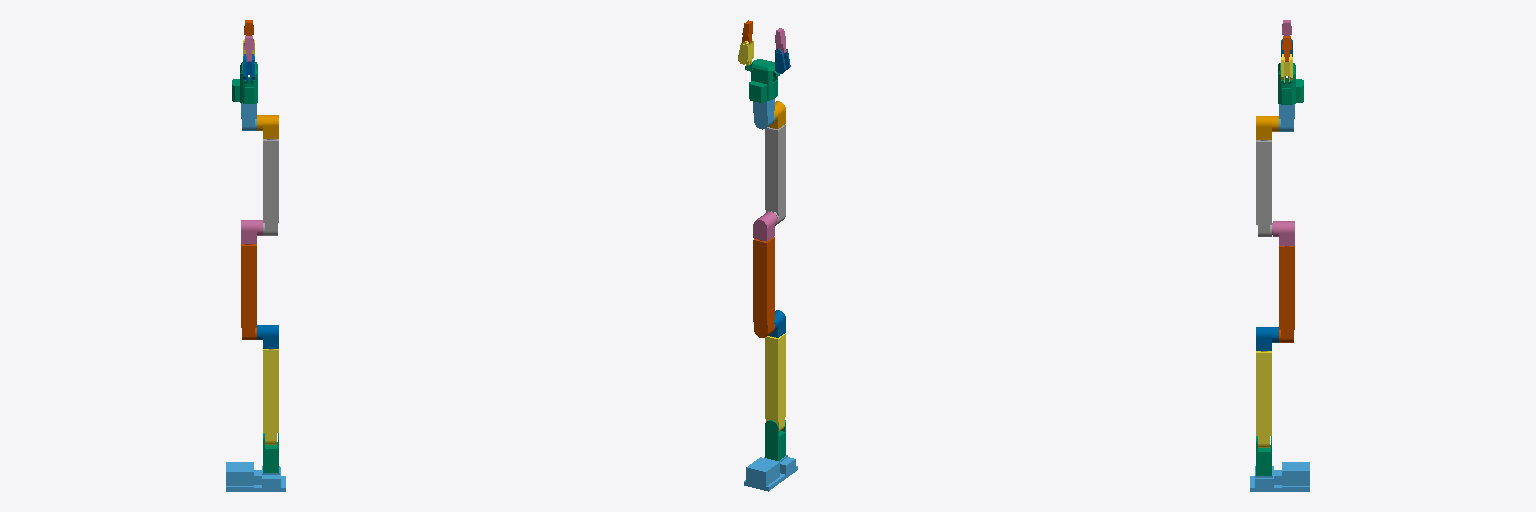
robot.urdf — defaultMantis:
<?xml version="1.0" ?>
<!-- =================================================================================== -->
<!-- |    This document was autogenerated by xacro from arm_gazebo_default.urdf.xacro  | -->
<!-- |    EDITING THIS FILE BY HAND IS NOT RECOMMENDED                                 | -->
<!-- =================================================================================== -->
<robot name="defaultMantis" xmlns:xacro="http://www.ros.org/wiki/xacro">
  <link name="world"/>
  <!-- ################################# -->
  <!--        Xacro Initialization       -->
  <!-- ################################# -->
  <!-- ========PROPERTIES======= -->
  <!-- xacro:property name="pi" value="3.1415926535" / -->
  <!-- measured to edge +2mm gap -->
  <!-- In Modified DH Parameters, the d values are expressed as distances along the Z axis of the ith joint
                 But the joint offset vectors defined below are defined from the (i-1) axes. So the d values
            are not applied with consistent signage or along the same axes.
    -->
  <!-- ################################# -->
  <!-- ========MACROS======= -->
  <!-- ################################# -->
  <!--              Links                -->
  <!-- ################################# -->
  <!-- ======== Fixed Base ======== -->
  <!-- These inertial values are rough estimates -->
  <link name="base_link">
    <visual>
      <origin rpy="0 0 0" xyz="0 0 0"/>
      <geometry>
        <mesh filename="package://mantis/meshes/base.dae"/>
      </geometry>
    </visual>
    <inertial>
      <mass value="0.400"/>
      <inertia ixx="0.08000" ixy="0.001" ixz="0.001" iyy="0.05000" iyz="0.002" izz="0.06000"/>
    </inertial>
  </link>
  <link name="B1">
    <visual>
      <origin rpy="0 0 0" xyz="0 0 0"/>
      <geometry>
        <mesh filename="package://mantis/meshes/B1.dae"/>
      </geometry>
    </visual>
    <inertial>
      <mass value="0.175"/>
      <inertia ixx="0.000586" ixy="0" ixz="0" iyy="0.000579" iyz="0" izz="0.000068"/>
    </inertial>
  </link>
  <link name="B2">
    <visual>
      <origin rpy="0 0 0" xyz="0 0 0"/>
      <geometry>
        <mesh filename="package://mantis/meshes/B2.dae"/>
      </geometry>
    </visual>
    <inertial>
      <mass value="0.383"/>
      <inertia ixx="0.008240" ixy="0" ixz="0" iyy="0.000117" iyz="0" izz="0.008234"/>
    </inertial>
  </link>
  <link name="B3">
    <visual>
      <origin rpy="0 0 0" xyz="0 0 0"/>
      <geometry>
        <mesh filename="package://mantis/meshes/B3.dae"/>
      </geometry>
    </visual>
    <inertial>
      <mass value="0.320"/>
      <inertia ixx="0.000272" ixy="0" ixz="0" iyy="0.000101" iyz="0" izz="0.000303"/>
    </inertial>
  </link>
  <link name="B4">
    <visual>
      <origin rpy="0 0 0" xyz="0 0 0"/>
      <geometry>
        <mesh filename="package://mantis/meshes/B4.dae"/>
      </geometry>
    </visual>
    <inertial>
      <mass value="0.383"/>
      <inertia ixx="0.008240" ixy="0" ixz="0" iyy="0.000117" iyz="0" izz="0.008234"/>
    </inertial>
  </link>
  <link name="B5">
    <visual>
      <origin rpy="0 0 0" xyz="0 0 0"/>
      <geometry>
        <mesh filename="package://mantis/meshes/B5.dae"/>
      </geometry>
    </visual>
    <inertial>
      <mass value="0.320"/>
      <inertia ixx="0.000272" ixy="0" ixz="0" iyy="0.000101" iyz="0" izz="0.000303"/>
    </inertial>
  </link>
  <link name="B6">
    <visual>
      <origin rpy="0 0 0" xyz="0 0 0"/>
      <geometry>
        <mesh filename="package://mantis/meshes/B6.dae"/>
      </geometry>
    </visual>
    <inertial>
      <mass value="0.383"/>
      <inertia ixx="0.008240" ixy="0" ixz="0" iyy="0.000117" iyz="0" izz="0.008234"/>
    </inertial>
  </link>
  <link name="B7">
    <visual>
      <origin rpy="0 0 0" xyz="0 0 0"/>
      <geometry>
        <mesh filename="package://mantis/meshes/B7.dae"/>
      </geometry>
    </visual>
    <inertial>
      <mass value="0.320"/>
      <inertia ixx="0.000272" ixy="0" ixz="0" iyy="0.000101" iyz="0" izz="0.000303"/>
    </inertial>
  </link>
  <link name="B8">
    <visual>
      <origin rpy="0 0 0" xyz="0 0 0"/>
      <geometry>
        <mesh filename="package://mantis/meshes/B8.dae"/>
      </geometry>
    </visual>
    <inertial>
      <mass value="0.150"/>
      <inertia ixx="0.000586" ixy="0" ixz="0" iyy="0.000068" iyz="0" izz="0.000579"/>
    </inertial>
  </link>
  <link name="Palm">
    <visual>
      <origin rpy="0 0 0" xyz="0 0 0"/>
      <geometry>
        <mesh filename="package://mantis/meshes/gripper/palm.dae"/>
      </geometry>
    </visual>
    <collision>
      <origin rpy="0 0 0" xyz="0 0 0"/>
      <geometry>
        <mesh filename="package://mantis/meshes/gripper/palm.dae"/>
      </geometry>
    </collision>
    <inertial>
      <mass value="0.400"/>
      <inertia ixx="0.5000" ixy="0.000" ixz="0.00" iyy="0.5000" iyz="0.00" izz="0.6000"/>
    </inertial>
  </link>
  <link name="Proximal_L">
    <visual>
      <origin rpy="0 0 0" xyz="0 0 0"/>
      <geometry>
        <mesh filename="package://mantis/meshes/gripper/proximal_L.dae"/>
      </geometry>
    </visual>
    <collision>
      <origin rpy="0 0 0" xyz="0 0 0"/>
      <geometry>
        <mesh filename="package://mantis/meshes/gripper/proximal_L.dae"/>
      </geometry>
    </collision>
    <inertial>
      <mass value="0.010"/>
      <inertia ixx="0.0006" ixy="0.0" ixz="0.0" iyy="0.0002" iyz="0.0" izz="0.0006"/>
    </inertial>
  </link>
  <link name="Proximal_R">
    <visual>
      <origin rpy="0 0 0" xyz="0 0 0"/>
      <geometry>
        <mesh filename="package://mantis/meshes/gripper/proximal_R.dae"/>
      </geometry>
    </visual>
    <collision>
      <origin rpy="0 0 0" xyz="0 0 0"/>
      <geometry>
        <mesh filename="package://mantis/meshes/gripper/proximal_R.dae"/>
      </geometry>
    </collision>
    <inertial>
      <mass value="0.010"/>
      <inertia ixx="0.0006" ixy="0.0" ixz="0.0" iyy="0.0002" iyz="0.0" izz="0.0006"/>
    </inertial>
  </link>
  <link name="Distal_L">
    <visual>
      <origin rpy="0 0 0" xyz="0 0 0"/>
      <geometry>
        <mesh filename="package://mantis/meshes/gripper/distal_L.dae"/>
      </geometry>
    </visual>
    <collision>
      <origin rpy="0 0 0" xyz="0 0 0"/>
      <geometry>
        <mesh filename="package://mantis/meshes/gripper/distal_L.dae"/>
      </geometry>
    </collision>
    <inertial>
      <mass value="0.010"/>
      <inertia ixx="0.0006" ixy="0.0" ixz="0.0" iyy="0.0002" iyz="0.0" izz="0.0006"/>
    </inertial>
  </link>
  <link name="Distal_R">
    <visual>
      <origin rpy="0 0 0" xyz="0 0 0"/>
      <geometry>
        <mesh filename="package://mantis/meshes/gripper/distal_R.dae"/>
      </geometry>
    </visual>
    <collision>
      <origin rpy="0 0 0" xyz="0 0 0"/>
      <geometry>
        <mesh filename="package://mantis/meshes/gripper/distal_R.dae"/>
      </geometry>
    </collision>
    <inertial>
      <mass value="0.010"/>
      <inertia ixx="0.0006" ixy="0.0" ixz="0.0" iyy="0.0002" iyz="0.0" izz="0.0006"/>
    </inertial>
  </link>
  <!-- ################################# -->
  <!-- ################################# -->
  <!--             Joints                -->
  <!-- ################################# -->
  <!-- ======== Joint 0 (fixed) ========
        This joint places the arm within the global environment
        using this file's arguments env_base and origin
    -->
  <joint name="anchor" type="fixed">
    <origin rpy="0 0 0" xyz="0 0 0.01"/>
    <parent link="world"/>
    <child link="base_link"/>
  </joint>
  <joint name="J1_roll" type="continuous">
    <parent link="base_link"/>
    <child link="B1"/>
    <origin rpy="0 0 0" xyz="0 0 0.129"/>
    <axis xyz="0 0 1">
      <dynamics damping="0.25" friction="0.25"/>
    </axis>
    <limit effort="30.0" velocity="10"/>
  </joint>
  <joint name="J2_pitch" type="continuous">
    <parent link="B1"/>
    <child link="B2"/>
    <origin rpy="-1.57079632679 0 0" xyz="0 0 0"/>
    <axis xyz="0 0 1">
      <dynamics damping="0.25" friction="0.25"/>
    </axis>
    <limit effort="30.0" velocity="10"/>
  </joint>
  <joint name="J3_roll" type="continuous">
    <parent link="B2"/>
    <child link="B3"/>
    <origin rpy="1.57079632679 0 0" xyz="0 -0.29 0"/>
    <axis xyz="0 0 1">
      <dynamics damping="0.25" friction="0.25"/>
    </axis>
    <limit effort="30.0" velocity="10"/>
  </joint>
  <joint name="J4_pitch" type="continuous">
    <parent link="B3"/>
    <child link="B4"/>
    <origin rpy="-1.57079632679 0 0" xyz="0 0.056 0"/>
    <axis xyz="0 0 1">
      <dynamics damping="0.25" friction="0.25"/>
    </axis>
    <limit effort="30.0" velocity="10"/>
  </joint>
  <joint name="J5_roll" type="continuous">
    <parent link="B4"/>
    <child link="B5"/>
    <origin rpy="1.57079632679 0 0" xyz="0 -0.29 0"/>
    <axis xyz="0 0 1">
      <dynamics damping="0.25" friction="0.25"/>
    </axis>
    <limit effort="30.0" velocity="10"/>
  </joint>
  <joint name="J6_pitch" type="continuous">
    <parent link="B5"/>
    <child link="B6"/>
    <origin rpy="-1.57079632679 0 0" xyz="0 -0.056 0"/>
    <axis xyz="0 0 1">
      <dynamics damping="0.25" friction="0.25"/>
    </axis>
    <limit effort="30.0" velocity="10"/>
  </joint>
  <joint name="J7_roll" type="continuous">
    <parent link="B6"/>
    <child link="B7"/>
    <origin rpy="1.57079632679 0 0" xyz="0 -0.29 0"/>
    <axis xyz="0 0 1">
      <dynamics damping="0.25" friction="0.25"/>
    </axis>
    <limit effort="30.0" velocity="10"/>
  </joint>
  <joint name="J8_pitch" type="continuous">
    <parent link="B7"/>
    <child link="B8"/>
    <origin rpy="-1.57079632679 0 0" xyz="0 0.056 0"/>
    <axis xyz="0 0 1">
      <dynamics damping="0.25" friction="0.25"/>
    </axis>
    <limit effort="30.0" velocity="10"/>
  </joint>
  <joint name="J9_wrist" type="continuous">
    <parent link="B8"/>
    <child link="Palm"/>
    <origin rpy="1.57079632679 0 0" xyz="0 -0.067 0"/>
    <axis xyz="0 0 1">
      <dynamics damping="0.25" friction="0.25"/>
    </axis>
    <limit effort="30.0" velocity="10"/>
  </joint>
  <joint name="J1_L_wrist" type="continuous">
    <parent link="Palm"/>
    <child link="Proximal_L"/>
    <origin rpy="-1.57079632679 0 0" xyz=" 0.04334 0 0.071569"/>
    <axis xyz="0 0 1">
      <dynamics damping="0.25" friction="0.25"/>
    </axis>
    <limit effort="30.0" velocity="10"/>
  </joint>
  <joint name="J1_R_wrist" type="continuous">
    <parent link="Palm"/>
    <child link="Proximal_R"/>
    <origin rpy="-1.57079632679 0 0" xyz="-0.04334 0 0.071569"/>
    <axis xyz="0 0 1">
      <dynamics damping="0.25" friction="0.25"/>
    </axis>
    <limit effort="30.0" velocity="10"/>
  </joint>
  <joint name="J2_L_wrist" type="continuous">
    <parent link="Proximal_L"/>
    <child link="Distal_L"/>
    <origin rpy="0 0 0" xyz=" 0 -0.06789 0 "/>
    <axis xyz="0 0 1">
      <dynamics damping="0.25" friction="0.25"/>
    </axis>
    <limit effort="30.0" velocity="10"/>
  </joint>
  <joint name="J2_R_wrist" type="continuous">
    <parent link="Proximal_R"/>
    <child link="Distal_R"/>
    <origin rpy="0 0 0" xyz=" 0 -0.06789 0 "/>
    <axis xyz="0 0 1">
      <dynamics damping="0.25" friction="0.25"/>
    </axis>
    <limit effort="30.0" velocity="10"/>
  </joint>
  <!-- ################################# -->
  <!--             PLUGINS               -->
  <!-- ################################# -->
  <gazebo>
    <plugin filename="libgazebo_ros_control.so" name="gazebo_ros_control">
      <robotNamespace>/mantis</robotNamespace>
    </plugin>
  </gazebo>
  <!-- ################################# -->
  <transmission name="J1_roll_transmission">
    <type>transmission_interface/SimpleTransmission</type>
    <joint name="J1_roll">
      <hardwareInterface>EffortJointInterface</hardwareInterface>
    </joint>
    <actuator name="J1_roll_motor">
      <hardwareInterface>EffortJointInterface</hardwareInterface>
    </actuator>
  </transmission>
  <transmission name="J2_pitch_transmission">
    <type>transmission_interface/SimpleTransmission</type>
    <joint name="J2_pitch">
      <hardwareInterface>EffortJointInterface</hardwareInterface>
    </joint>
    <actuator name="J2_pitch_motor">
      <hardwareInterface>EffortJointInterface</hardwareInterface>
    </actuator>
  </transmission>
  <transmission name="J3_roll_transmission">
    <type>transmission_interface/SimpleTransmission</type>
    <joint name="J3_roll">
      <hardwareInterface>EffortJointInterface</hardwareInterface>
    </joint>
    <actuator name="J3_roll_motor">
      <hardwareInterface>EffortJointInterface</hardwareInterface>
    </actuator>
  </transmission>
  <transmission name="J4_pitch_transmission">
    <type>transmission_interface/SimpleTransmission</type>
    <joint name="J4_pitch">
      <hardwareInterface>EffortJointInterface</hardwareInterface>
    </joint>
    <actuator name="J4_pitch_motor">
      <hardwareInterface>EffortJointInterface</hardwareInterface>
    </actuator>
  </transmission>
  <transmission name="J5_roll_transmission">
    <type>transmission_interface/SimpleTransmission</type>
    <joint name="J5_roll">
      <hardwareInterface>EffortJointInterface</hardwareInterface>
    </joint>
    <actuator name="J5_roll_motor">
      <hardwareInterface>EffortJointInterface</hardwareInterface>
    </actuator>
  </transmission>
  <transmission name="J6_pitch_transmission">
    <type>transmission_interface/SimpleTransmission</type>
    <joint name="J6_pitch">
      <hardwareInterface>EffortJointInterface</hardwareInterface>
    </joint>
    <actuator name="J6_pitch_motor">
      <hardwareInterface>EffortJointInterface</hardwareInterface>
    </actuator>
  </transmission>
  <transmission name="J7_roll_transmission">
    <type>transmission_interface/SimpleTransmission</type>
    <joint name="J7_roll">
      <hardwareInterface>EffortJointInterface</hardwareInterface>
    </joint>
    <actuator name="J7_roll_motor">
      <hardwareInterface>EffortJointInterface</hardwareInterface>
    </actuator>
  </transmission>
  <transmission name="J8_pitch_transmission">
    <type>transmission_interface/SimpleTransmission</type>
    <joint name="J8_pitch">
      <hardwareInterface>EffortJointInterface</hardwareInterface>
    </joint>
    <actuator name="J8_pitch_motor">
      <hardwareInterface>EffortJointInterface</hardwareInterface>
    </actuator>
  </transmission>
  <transmission name="J9_wrist_transmission">
    <type>transmission_interface/SimpleTransmission</type>
    <joint name="J9_wrist">
      <hardwareInterface>EffortJointInterface</hardwareInterface>
    </joint>
    <actuator name="J9_wrist_motor">
      <hardwareInterface>EffortJointInterface</hardwareInterface>
    </actuator>
  </transmission>
  <transmission name="J1_L_wrist_transmission">
    <type>transmission_interface/SimpleTransmission</type>
    <joint name="J1_L_wrist">
      <hardwareInterface>EffortJointInterface</hardwareInterface>
    </joint>
    <actuator name="J1_L_wrist_motor">
      <hardwareInterface>EffortJointInterface</hardwareInterface>
    </actuator>
  </transmission>
  <transmission name="J1_R_wrist_transmission">
    <type>transmission_interface/SimpleTransmission</type>
    <joint name="J1_R_wrist">
      <hardwareInterface>EffortJointInterface</hardwareInterface>
    </joint>
    <actuator name="J1_R_wrist_motor">
      <hardwareInterface>EffortJointInterface</hardwareInterface>
    </actuator>
  </transmission>
  <!-- Friction
        Detailed description needed-->
  <!-- ################################# -->
  <!--           Materials               -->
  <!-- ################################# -->
  <gazebo reference="base_link">
    <material>
            Gazebo/Black
        </material>
    <implicitSpringDamper>1</implicitSpringDamper>
    <mu1>100000</mu1>
    <mu2>100000</mu2>
    <kp>100.0</kp>
    <kd>0.01</kd>
  </gazebo>
  <gazebo reference="B1">
    <material>
            Gazebo/DarkGrey
        </material>
    <implicitSpringDamper>1</implicitSpringDamper>
    <mu1>100000</mu1>
    <mu2>100000</mu2>
    <kp>100.0</kp>
    <kd>0.01</kd>
  </gazebo>
  <gazebo reference="B2">
    <material>
            Gazebo/Grey
        </material>
    <implicitSpringDamper>1</implicitSpringDamper>
    <mu1>100000</mu1>
    <mu2>100000</mu2>
    <kp>100.0</kp>
    <kd>0.01</kd>
  </gazebo>
  <gazebo reference="B3">
    <material>
            Gazebo/DarkGrey
        </material>
    <implicitSpringDamper>1</implicitSpringDamper>
    <mu1>100000</mu1>
    <mu2>100000</mu2>
    <kp>100.0</kp>
    <kd>0.01</kd>
  </gazebo>
  <gazebo reference="B4">
    <material>
            Gazebo/Grey
        </material>
    <implicitSpringDamper>1</implicitSpringDamper>
    <mu1>100000</mu1>
    <mu2>100000</mu2>
    <kp>100.0</kp>
    <kd>0.01</kd>
  </gazebo>
  <gazebo reference="B5">
    <material>
            Gazebo/DarkGrey
        </material>
    <implicitSpringDamper>1</implicitSpringDamper>
    <mu1>100000</mu1>
    <mu2>100000</mu2>
    <kp>100.0</kp>
    <kd>0.01</kd>
  </gazebo>
  <gazebo reference="B6">
    <material>
            Gazebo/Grey
        </material>
    <implicitSpringDamper>1</implicitSpringDamper>
    <mu1>100000</mu1>
    <mu2>100000</mu2>
    <kp>100.0</kp>
    <kd>0.01</kd>
  </gazebo>
  <gazebo reference="B7">
    <material>
            Gazebo/DarkGrey
        </material>
    <implicitSpringDamper>1</implicitSpringDamper>
    <mu1>100000</mu1>
    <mu2>100000</mu2>
    <kp>100.0</kp>
    <kd>0.01</kd>
  </gazebo>
  <gazebo reference="B8">
    <material>
            Gazebo/Grey
        </material>
    <implicitSpringDamper>1</implicitSpringDamper>
    <mu1>100000</mu1>
    <mu2>100000</mu2>
    <kp>100.0</kp>
    <kd>0.01</kd>
  </gazebo>
  <gazebo reference="Hand">
    <material>
            Gazebo/SkyBlue
        </material>
    <implicitSpringDamper>1</implicitSpringDamper>
    <mu1>100000</mu1>
    <mu2>100000</mu2>
    <kp>100.0</kp>
    <kd>0.01</kd>
  </gazebo>
  <gazebo reference="Plate">
    <material>
            Gazebo/Turquoise
        </material>
    <implicitSpringDamper>1</implicitSpringDamper>
    <mu1>100000</mu1>
    <mu2>100000</mu2>
    <kp>100.0</kp>
    <kd>0.01</kd>
  </gazebo>
  <!-- ################################# -->
</robot>

--- Render facts (derived) ---
3 views of the same robot in one strip: view 1: azimuth 90°, elevation 25°; view 2: azimuth 150°, elevation 25°; view 3: azimuth 270°, elevation 25° (orthographic).
Robot: defaultMantis — 15 links, 14 joints (13 continuous, 1 fixed); root link world; default pose: every joint at zero.
Visible links, largest first — view 1: B6, B4, B2, base_link, Palm; view 2: B4, B6, B2, base_link, Palm, B1, B5, B8; view 3: B4, B6, B2, base_link, Palm.
Link boxes in pixels (x1=…): B6: x1=263, y1=139, x2=278, y2=235; B4: x1=241, y1=244, x2=256, y2=339; B2: x1=263, y1=349, x2=278, y2=444; base_link: x1=226, y1=462, x2=285, y2=491; Palm: x1=232, y1=62, x2=257, y2=103; B4: x1=753, y1=237, x2=774, y2=337; B6: x1=765, y1=125, x2=785, y2=223; B2: x1=765, y1=333, x2=785, y2=431; base_link: x1=744, y1=455, x2=797, y2=491; Palm: x1=745, y1=59, x2=782, y2=102; B1: x1=765, y1=420, x2=785, y2=460; B5: x1=753, y1=212, x2=777, y2=241; B8: x1=753, y1=99, x2=774, y2=129; B4: x1=1279, y1=246, x2=1294, y2=342; B6: x1=1256, y1=140, x2=1271, y2=236; B2: x1=1256, y1=351, x2=1271, y2=447; base_link: x1=1250, y1=462, x2=1309, y2=491; Palm: x1=1278, y1=63, x2=1303, y2=104.
Bounding box of the posed robot: 0.137 × 0.1499 × 1.26 m (x, y, z).
Meshes: 14 distinct files referenced, 14 mesh visuals loaded (14 Collada DAE).